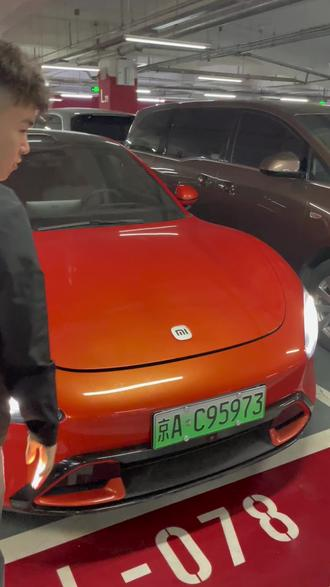su7: (0, 127, 316, 517)
